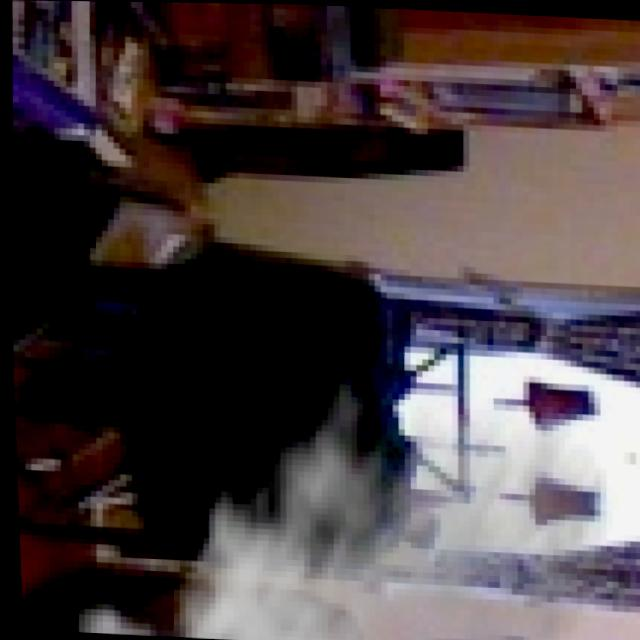smoke: (59, 334, 617, 640)
